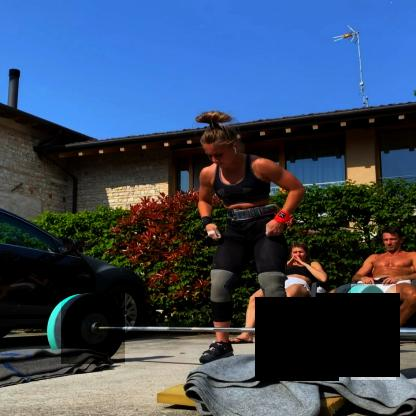barbell: (62, 293, 126, 365), (352, 285, 397, 381)
